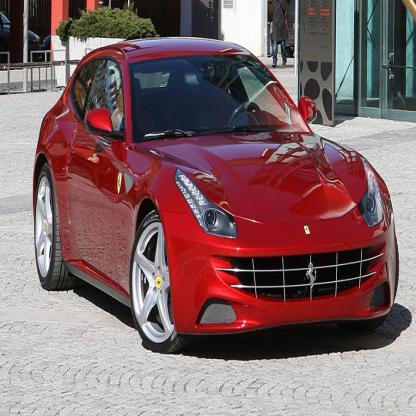Vehicle: (32, 33, 401, 360)
